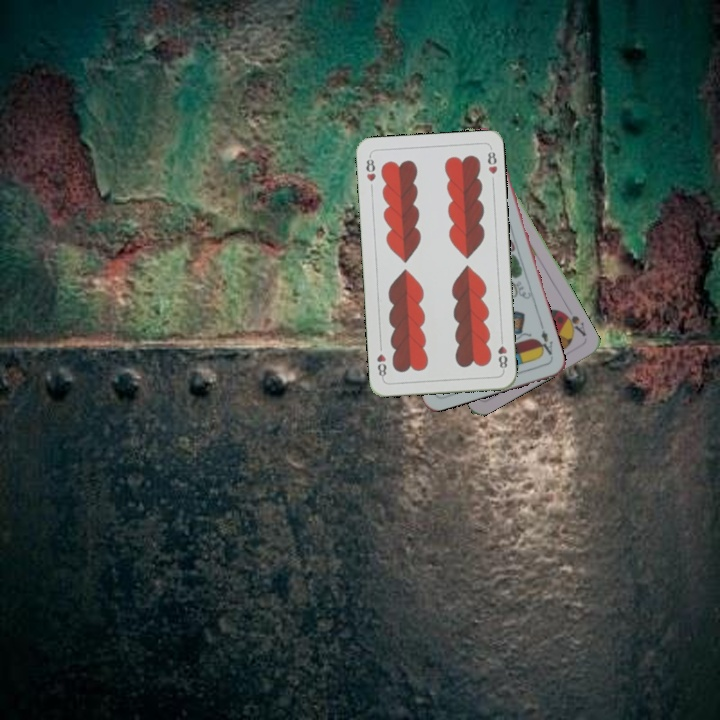EA: (534, 321, 555, 359)
H8: (494, 333, 510, 374), (362, 152, 378, 184)
SA: (558, 308, 589, 339)
